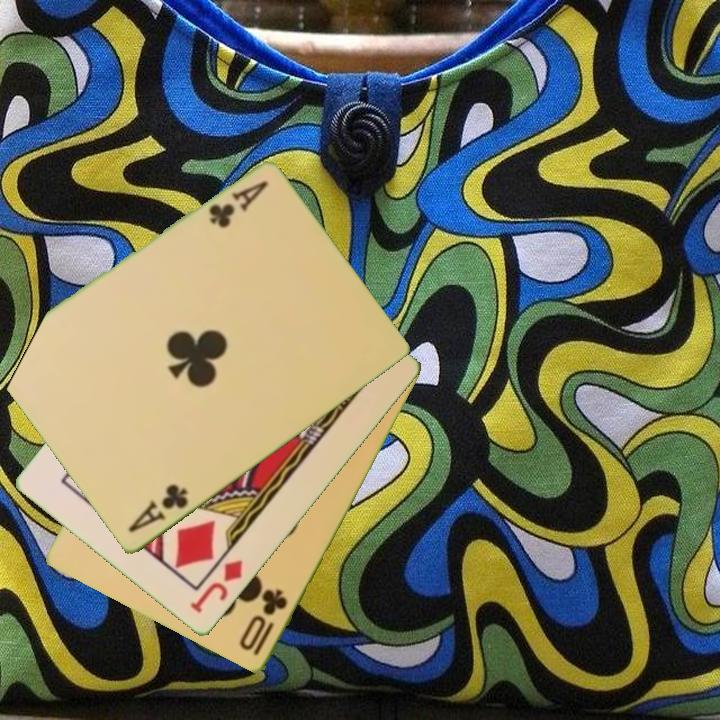10c: (236, 586, 291, 659)
Ac: (124, 480, 192, 536), (205, 178, 271, 232)
Jd: (186, 556, 247, 617)
